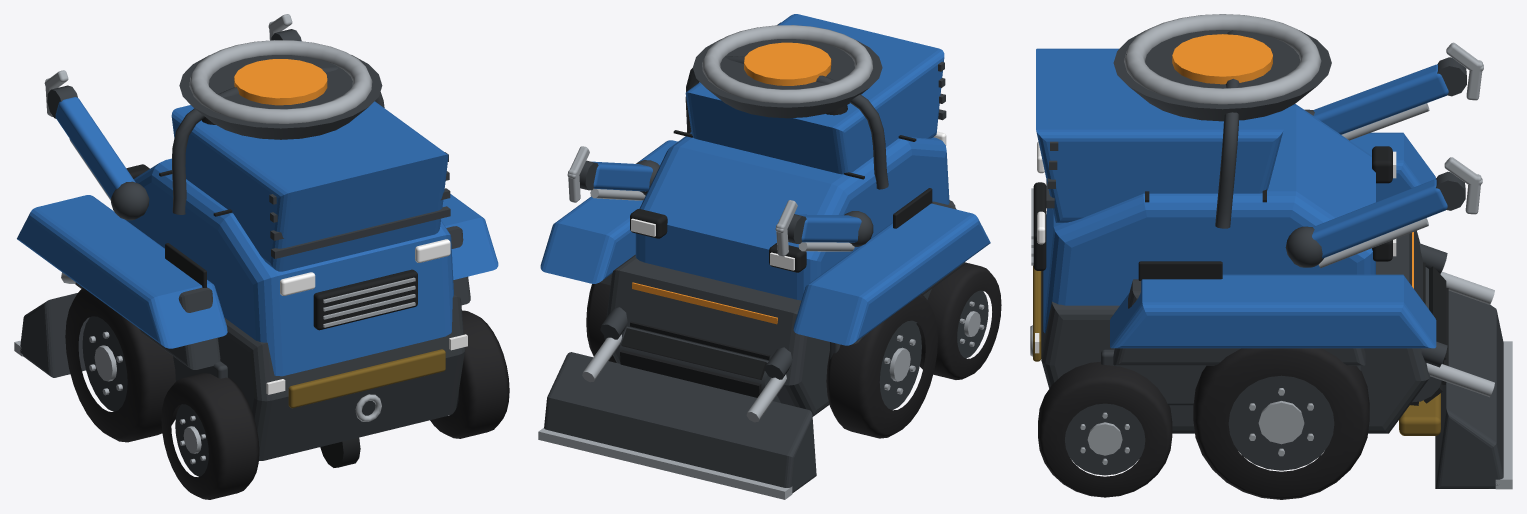
Rendered from Machine_magnet_T3.glb.
3 views of the same model, side by side, from view 1: azimuth 30°, elevation 25°; view 2: azimuth 150°, elevation 25°; view 3: azimuth 270°, elevation 25° (orthographic). The views are drawn at different scales.
Visible parts, largest first — view 1: Tier2_Parts_MAT_Player_Shell_18, Body_Shell_0, Tier1_Parts_MAT_Player_Gunmetal_8, Axle_Rear_MAT_tread_14, Tier1_Parts_MAT_steel_10, Axle_Front_MAT_tread_5, Tier2_Parts_MAT_Player_Gunmetal_19, Tier1_Parts_MAT_darkTrim_9, Tier1_Parts_MAT_Player_Hazard_11, Tier1_Parts_MAT_Player_IntakeGlow_12, Arm_L_Boom_23, Tier3_Parts_MAT_Player_Gunmetal_33 (+6 smaller); view 2: Tier2_Parts_MAT_Player_Shell_18, Body_Shell_0, Tier2_Parts_MAT_Player_Gunmetal_19, Tier1_Parts_MAT_Player_Gunmetal_8, Axle_Front_MAT_tread_5, Intake_Roller_MAT_darkTrim_2, Tier1_Parts_MAT_steel_10, Axle_Rear_MAT_tread_14, Tier2_Parts_MAT_steel_21, Tier1_Parts_MAT_Player_IntakeGlow_12, Axle_Front_MAT_Player_Gunmetal_6, Tier1_Parts_MAT_darkTrim_9 (+13 smaller); view 3: Tier2_Parts_MAT_Player_Shell_18, Body_Shell_0, Tier1_Parts_MAT_Player_Gunmetal_8, Axle_Front_MAT_tread_5, Tier2_Parts_MAT_Player_Gunmetal_19, Axle_Rear_MAT_tread_14, Tier1_Parts_MAT_steel_10, Axle_Front_MAT_Player_Gunmetal_6, Arm_R_Boom_28, Arm_L_Boom_23, Tier1_Parts_MAT_Player_IntakeGlow_12, Tier3_Parts_MAT_Player_Gunmetal_33 (+16 smaller).
Part boxes in pixels (x1,y1,x2,y2): Tier2_Parts_MAT_Player_Shell_18: (17, 101, 498, 348); Body_Shell_0: (126, 158, 453, 376); Tier1_Parts_MAT_Player_Gunmetal_8: (75, 55, 470, 460); Axle_Rear_MAT_tread_14: (161, 310, 509, 499); Tier1_Parts_MAT_steel_10: (189, 40, 415, 421); Axle_Front_MAT_tread_5: (65, 288, 180, 442); Tier2_Parts_MAT_Player_Gunmetal_19: (20, 152, 450, 377); Tier1_Parts_MAT_darkTrim_9: (126, 164, 417, 467); Tier1_Parts_MAT_Player_Hazard_11: (288, 349, 445, 408); Tier1_Parts_MAT_Player_IntakeGlow_12: (234, 59, 327, 105); Arm_L_Boom_23: (55, 97, 135, 198); Tier3_Parts_MAT_Player_Gunmetal_33: (172, 66, 384, 381); Tier2_Parts_MAT_Player_Shell_18: (540, 14, 990, 345); Body_Shell_0: (635, 132, 949, 300); Tier2_Parts_MAT_Player_Gunmetal_19: (544, 22, 946, 493); Tier1_Parts_MAT_Player_Gunmetal_8: (600, 39, 964, 416); Axle_Front_MAT_tread_5: (586, 282, 937, 438); Intake_Roller_MAT_darkTrim_2: (620, 321, 770, 397); Tier1_Parts_MAT_steel_10: (702, 25, 872, 103); Axle_Rear_MAT_tread_14: (916, 262, 1001, 379); Tier2_Parts_MAT_steel_21: (538, 334, 792, 499); Tier1_Parts_MAT_Player_IntakeGlow_12: (632, 42, 831, 324); Axle_Front_MAT_Player_Gunmetal_6: (879, 320, 921, 409); Tier1_Parts_MAT_darkTrim_9: (630, 130, 932, 272); Tier2_Parts_MAT_Player_Shell_18: (1036, 48, 1436, 348); Body_Shell_0: (1043, 104, 1375, 333); Tier1_Parts_MAT_Player_Gunmetal_8: (1041, 30, 1430, 433); Axle_Front_MAT_tread_5: (1193, 348, 1369, 499); Tier2_Parts_MAT_Player_Gunmetal_19: (1046, 141, 1503, 488); Axle_Rear_MAT_tread_14: (1038, 361, 1172, 497); Tier1_Parts_MAT_steel_10: (1030, 14, 1321, 356); Axle_Front_MAT_Player_Gunmetal_6: (1228, 375, 1334, 470); Arm_R_Boom_28: (1312, 179, 1447, 258); Arm_L_Boom_23: (1313, 64, 1448, 134); Tier1_Parts_MAT_Player_IntakeGlow_12: (1172, 34, 1413, 288); Tier3_Parts_MAT_Player_Gunmetal_33: (1101, 30, 1361, 405).
Bounding box in the file's own units: 1 × 0.98 × 1.15.
